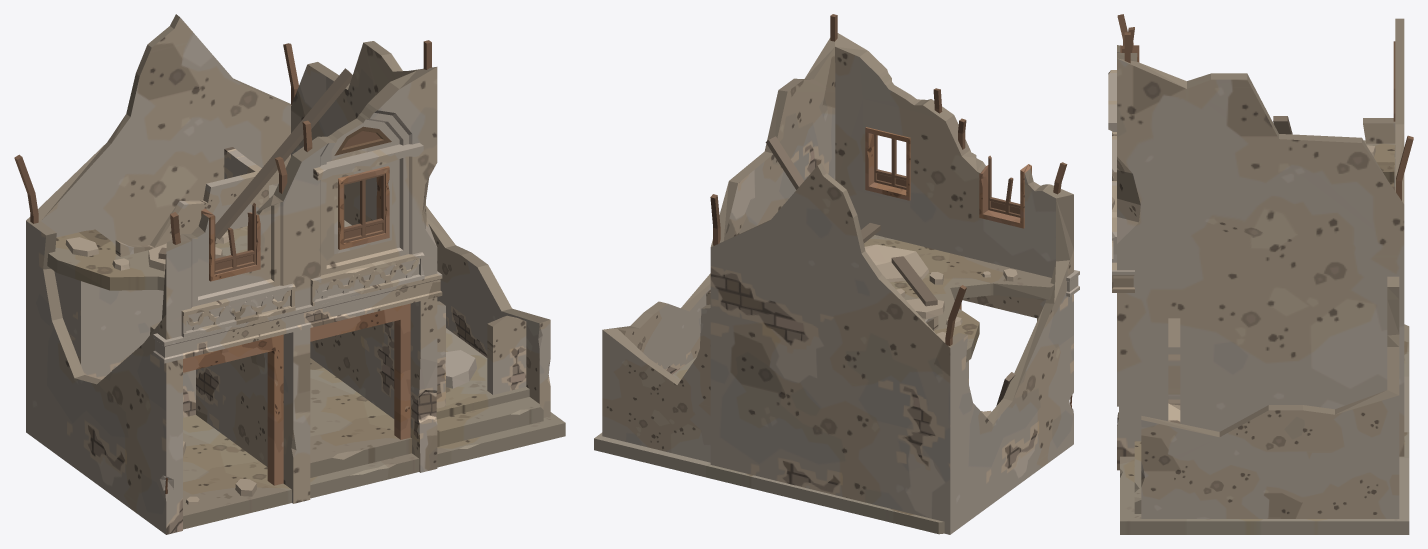
The model's file is SM_Bld_Shop_01_Destroyed.fbx.
3 views of the same model, side by side, from view 1: azimuth 30°, elevation 25°; view 2: azimuth 150°, elevation 25°; view 3: azimuth 270°, elevation 25° (orthographic). The views are drawn at different scales.
Visible parts, largest first — view 1: SM_Bld_Shop_01_Destroyed; view 2: SM_Bld_Shop_01_Destroyed; view 3: SM_Bld_Shop_01_Destroyed.
Part boxes in pixels (x1=…): SM_Bld_Shop_01_Destroyed: x1=14, y1=14, x2=565, y2=534; SM_Bld_Shop_01_Destroyed: x1=594, y1=14, x2=1079, y2=534; SM_Bld_Shop_01_Destroyed: x1=1108, y1=14, x2=1413, y2=534.
Bounding box in the file's own units: 978 × 956 × 609.
